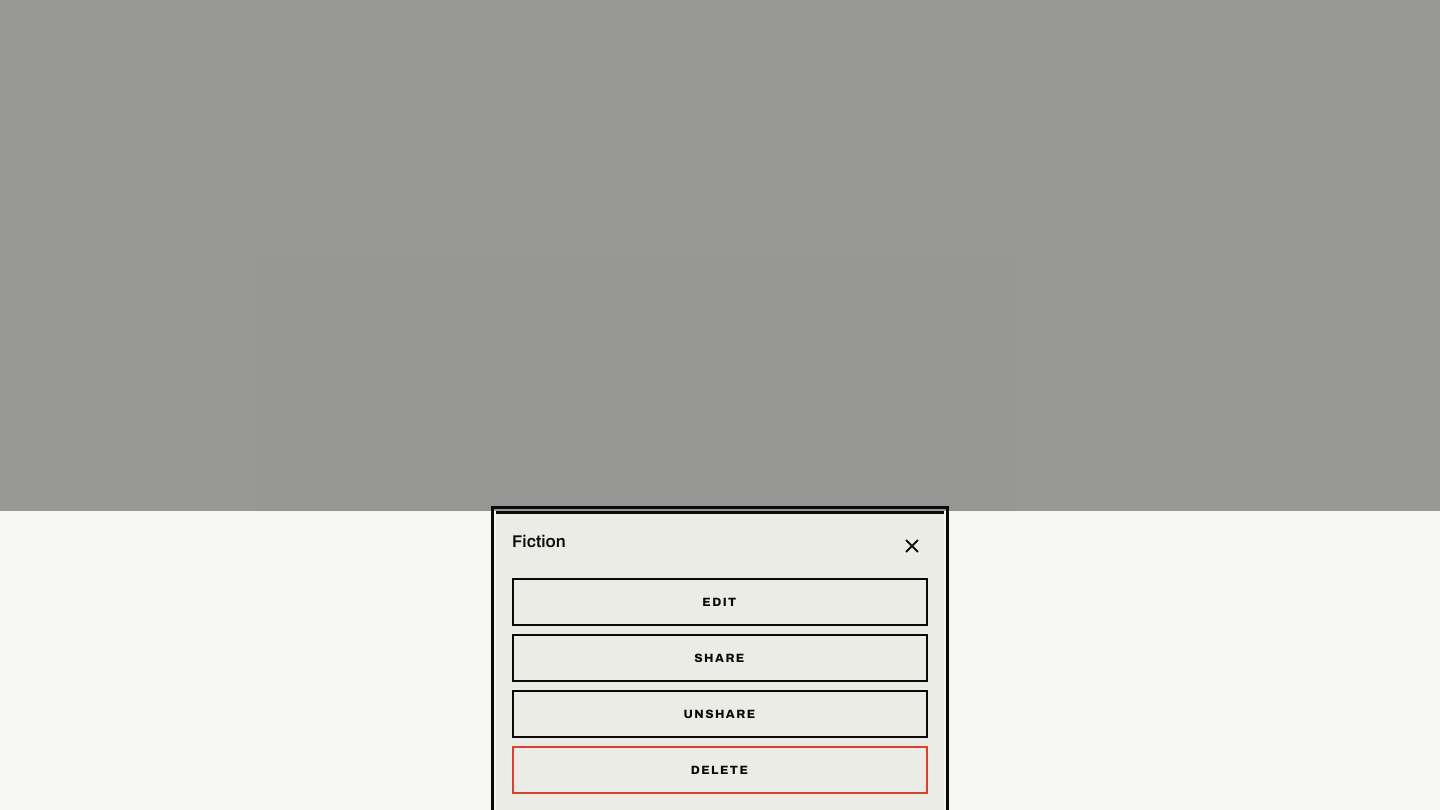
LibraryActionsSheet › opens the share form inline rather than on another screen
Click the button "Share" at (720, 658), box [512,634,928,682]
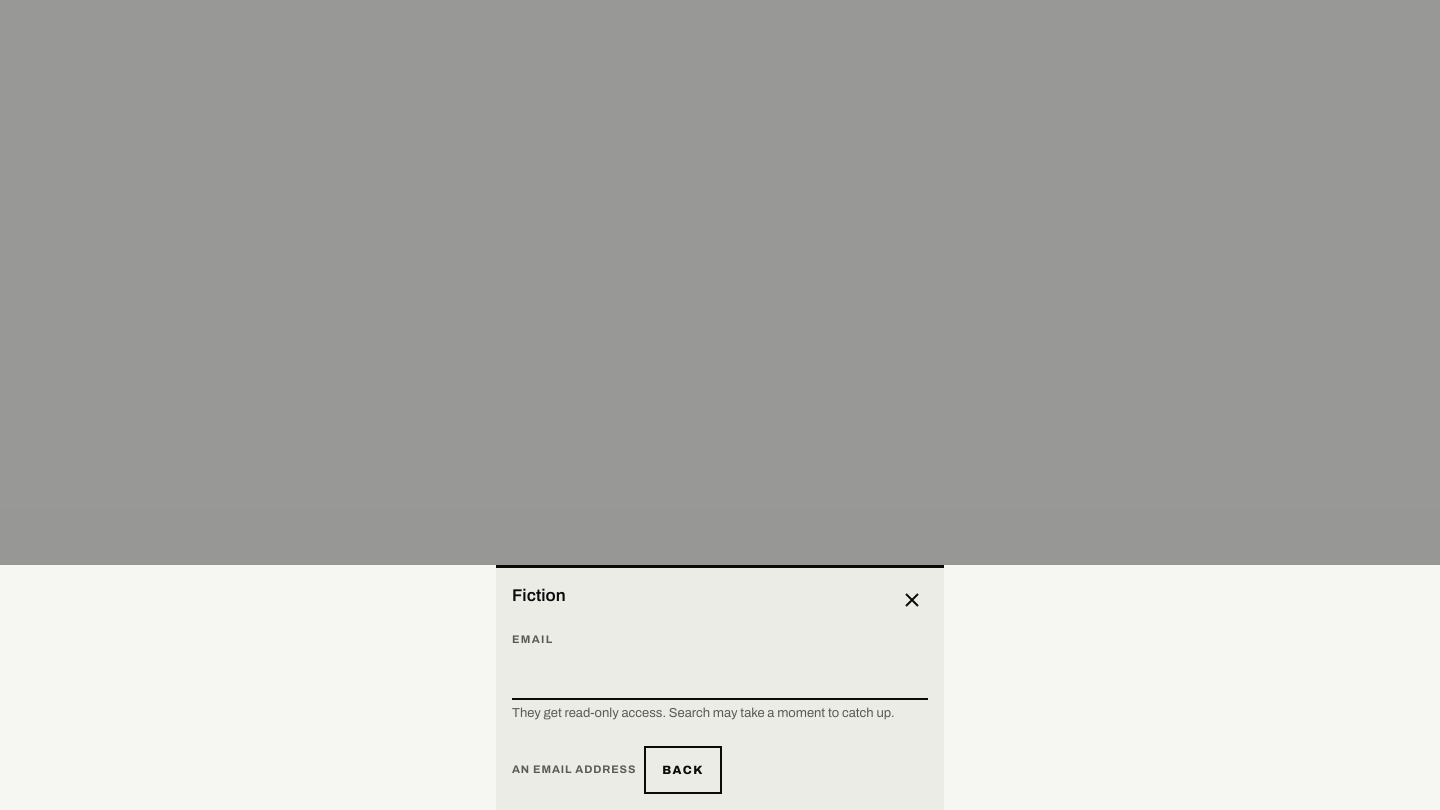
Check: the field labelled "Email" is shown, box [512,652,928,700]
